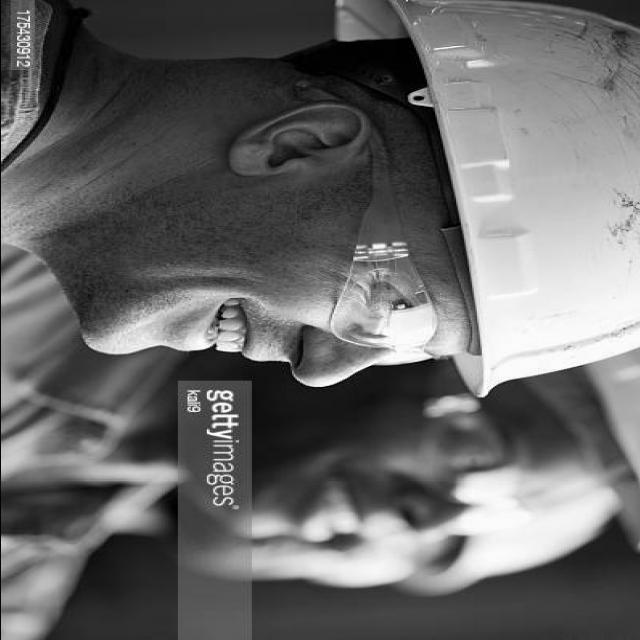safety_helmet: (410, 5, 640, 395)
